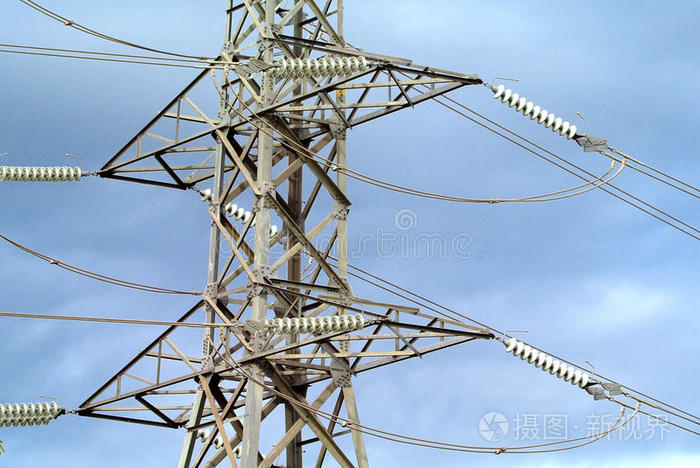insulator: (504, 336, 590, 389), (493, 84, 577, 138), (201, 187, 282, 239), (265, 57, 366, 83), (270, 312, 365, 334), (193, 428, 249, 459), (1, 163, 82, 184), (1, 401, 58, 427)
